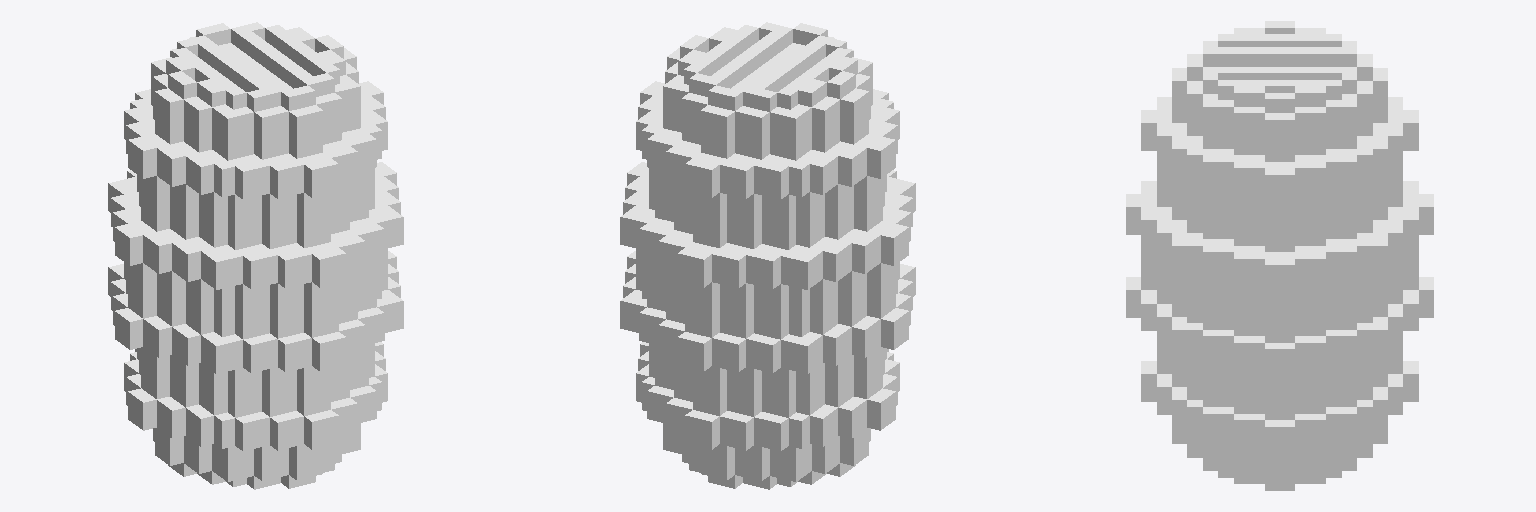
Rendered from Barrel01.obj.
3 renders of one model, left to right at view 1: azimuth 30°, elevation 25°; view 2: azimuth 150°, elevation 25°; view 3: azimuth 270°, elevation 25°, orthographic.
Parts seen in each view (by area): view 1: object 1; view 2: object 1; view 3: object 1.
Boxes of the visible parts, box(x1,y1,x2,y2) form: object 1: box(108, 22, 403, 489); object 1: box(620, 22, 915, 489); object 1: box(1126, 21, 1433, 490).
Bounding box in the file's own units: 2 × 2.8 × 2.